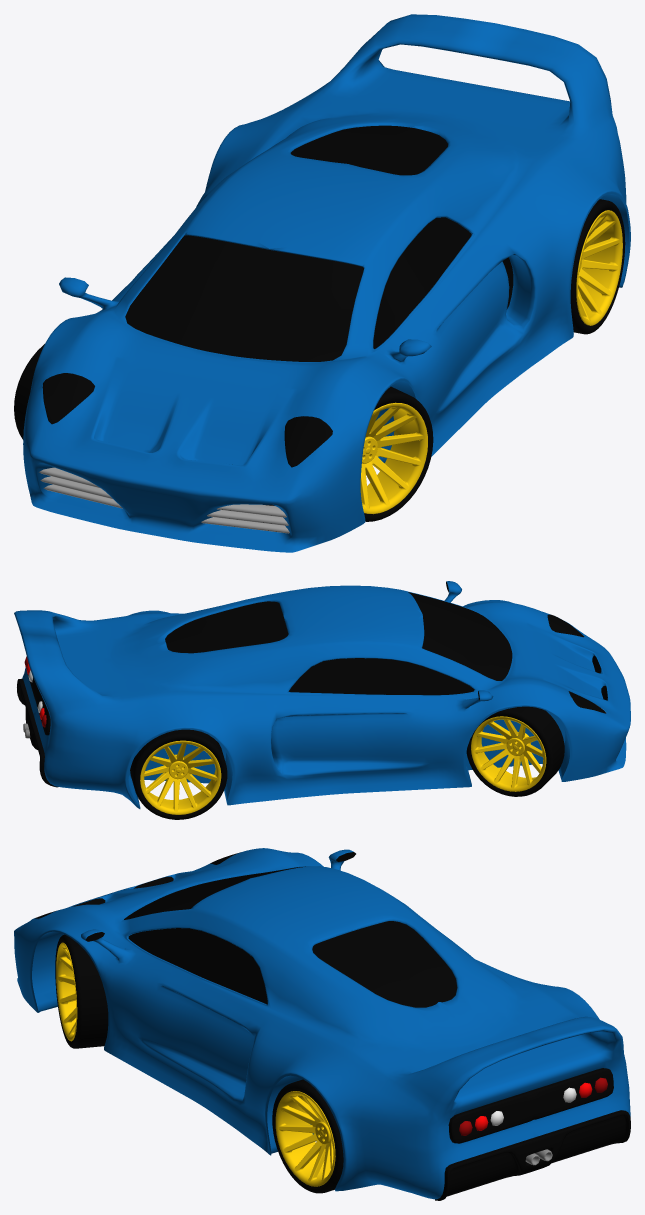
Rendered from dorifto3.gltf.
3 views of the same model, one above another, from view 1: azimuth 30°, elevation 25°; view 2: azimuth 150°, elevation 25°; view 3: azimuth 270°, elevation 25° (orthographic). The views are drawn at different scales.
Visible parts, largest first — view 1: Windows, amatsi_wheel.002, amatsi_wheel.001, amatsi_wheel; view 2: Windows, amatsi_wheel, amatsi_wheel.001; view 3: Windows, amatsi_wheel.001, amatsi_wheel.002.
Part boxes in pixels (x1,y1,x2,y2): Windows: [23, 14, 630, 552]; amatsi_wheel.002: [360, 386, 433, 521]; amatsi_wheel.001: [570, 199, 625, 334]; amatsi_wheel: [14, 344, 44, 439]; Windows: [14, 581, 630, 808]; amatsi_wheel: [466, 706, 564, 796]; amatsi_wheel.001: [130, 729, 227, 819]; Windows: [14, 848, 630, 1200]; amatsi_wheel.001: [272, 1079, 343, 1193]; amatsi_wheel.002: [55, 934, 108, 1048].
Size of the model in its own units: 4.22 by 1.13 by 3.65.
